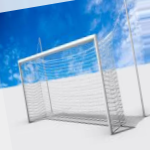goals: (16, 29, 130, 136)
